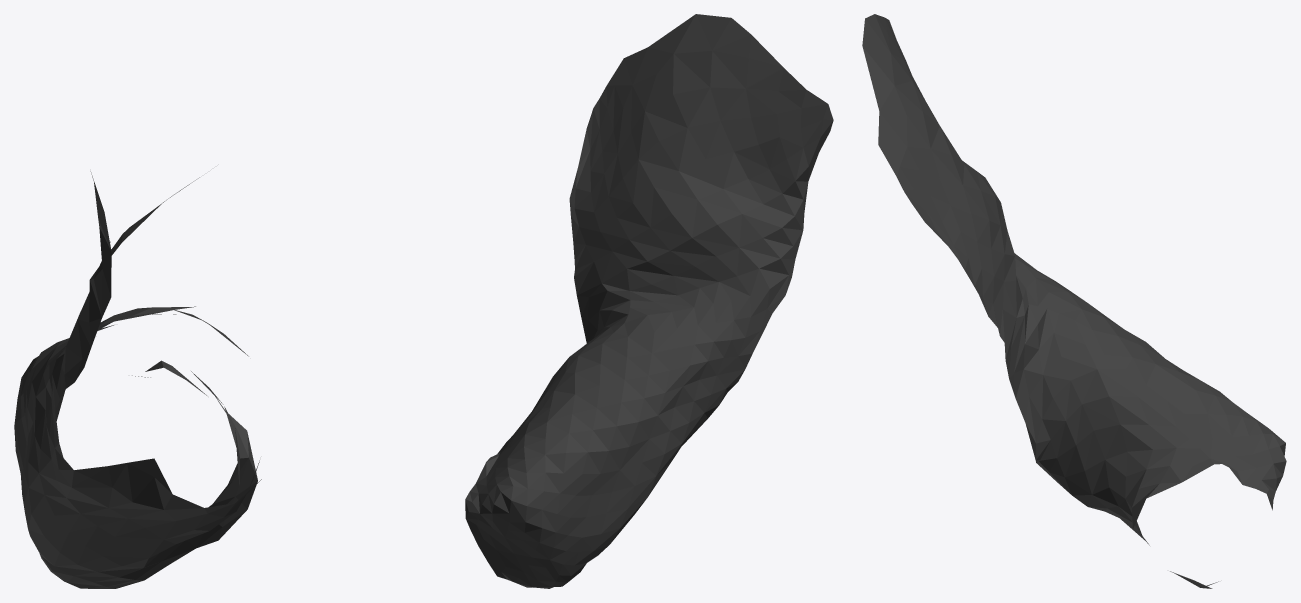
Rendered from ligament_caudal_cruciate_e.glb.
3 views of the same model, side by side, from view 1: azimuth 30°, elevation 25°; view 2: azimuth 150°, elevation 25°; view 3: azimuth 270°, elevation 25° (orthographic). The views are drawn at different scales.
Parts seen in each view (by area): view 1: ligament_caudal_cruciate_e; view 2: ligament_caudal_cruciate_e; view 3: ligament_caudal_cruciate_e.
Part boxes in pixels (x1=…): ligament_caudal_cruciate_e: x1=14, y1=171, x2=261, y2=588; ligament_caudal_cruciate_e: x1=465, y1=14, x2=833, y2=588; ligament_caudal_cruciate_e: x1=862, y1=14, x2=1286, y2=588.
Bounding box in the file's own units: 0.00119 × 0.00235 × 0.00168.
1 material, 1 textured.
